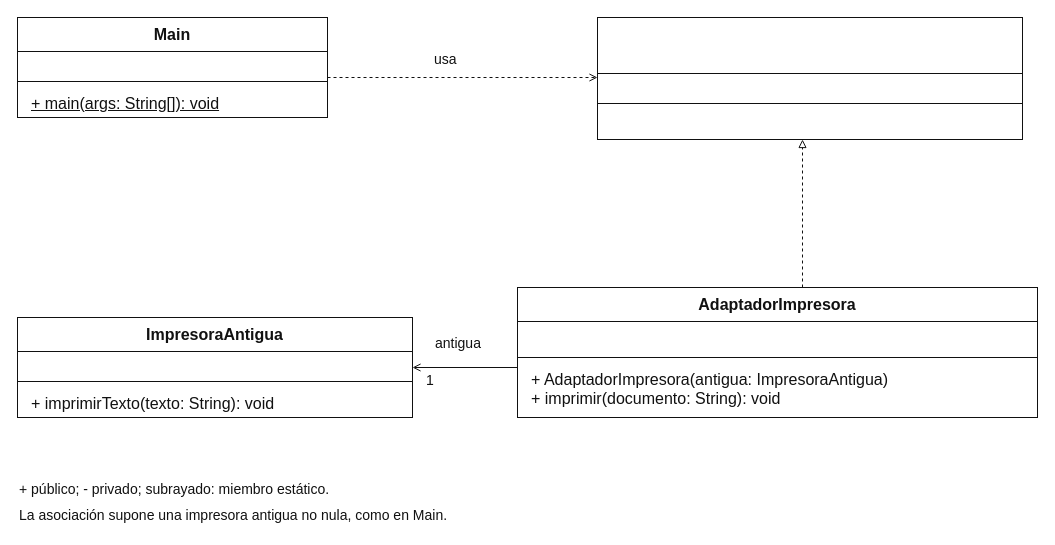
Image size: 1055x545. Some labels were removed from this diagram. Each missing label, with the box of its shape:
+ imprimir(documento: String): void: (596, 102, 1022, 140)
- antigua: ImpresoraAntigua {readOnly}: (516, 320, 1038, 358)
«interface» Impresora: (596, 16, 1022, 74)
